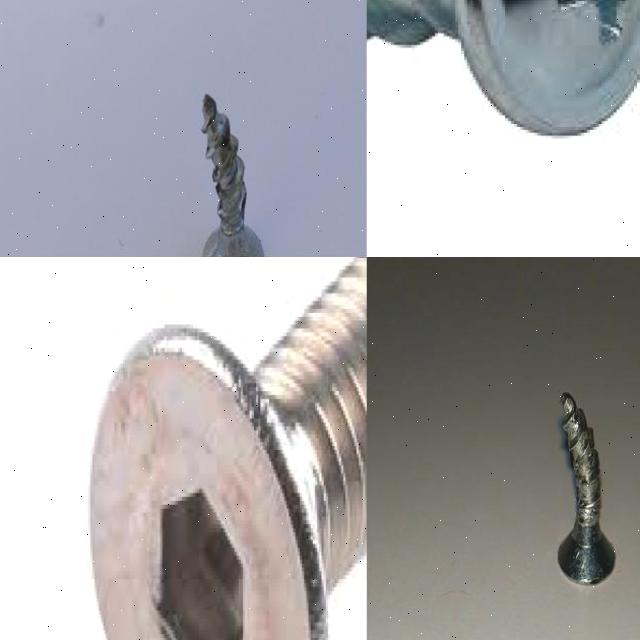Screw: (88, 257, 367, 640), (367, 0, 640, 139), (558, 391, 616, 584), (202, 93, 264, 257)
